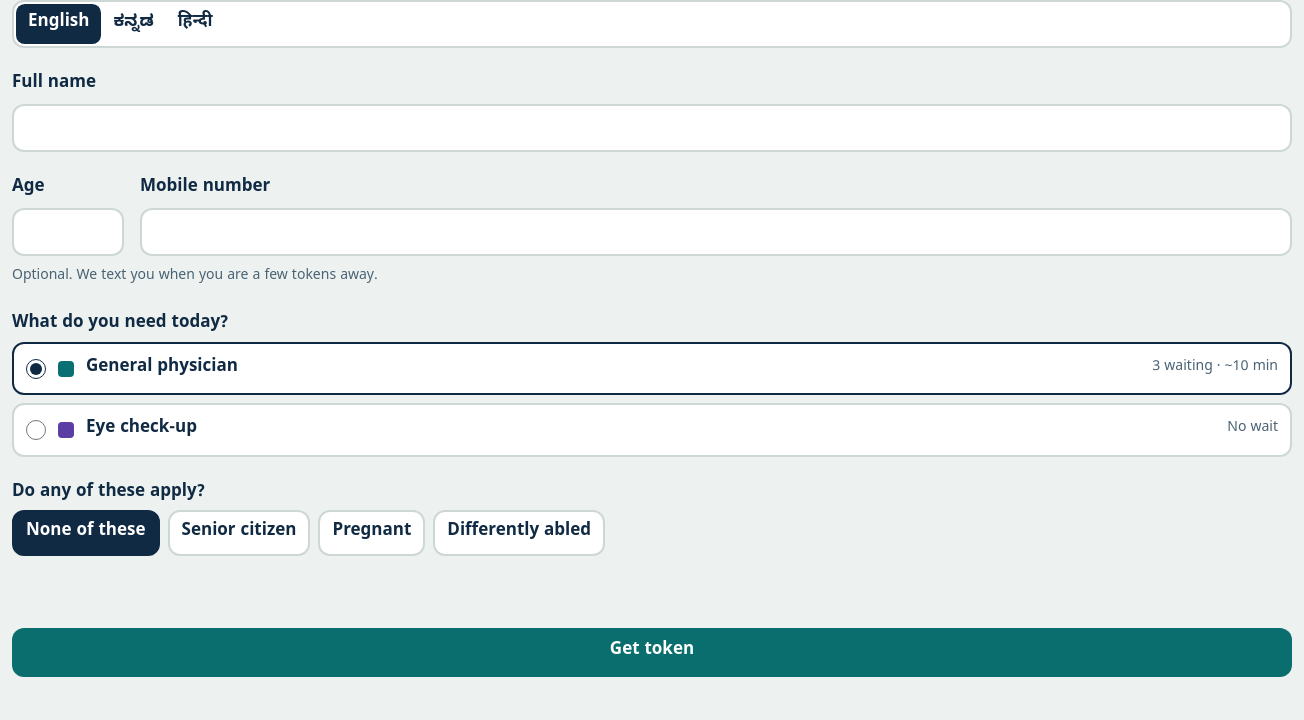
Test: RegisterForm › shows server errors in the form
Type "A" into the field named "name" at (652, 128), box x1=12 y1=104 x2=1292 y2=152
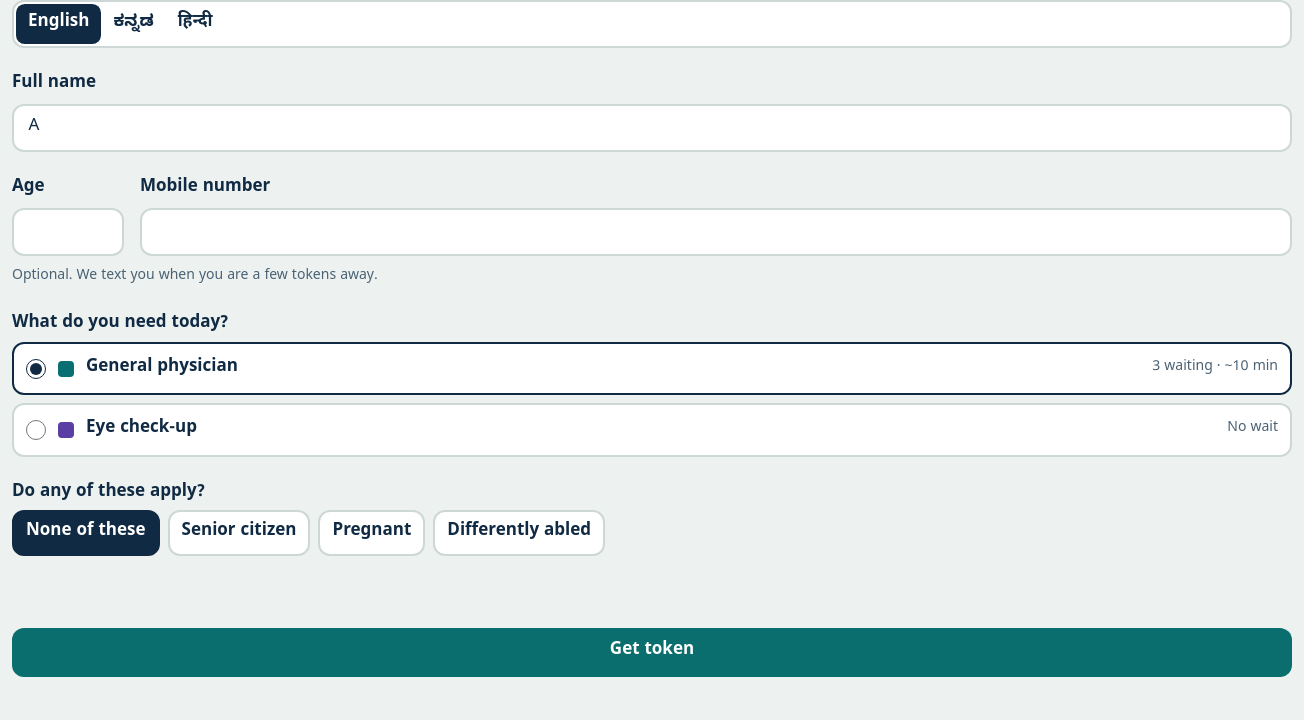
Type "30" into the field named "age" at (68, 232), box x1=12 y1=208 x2=124 y2=256
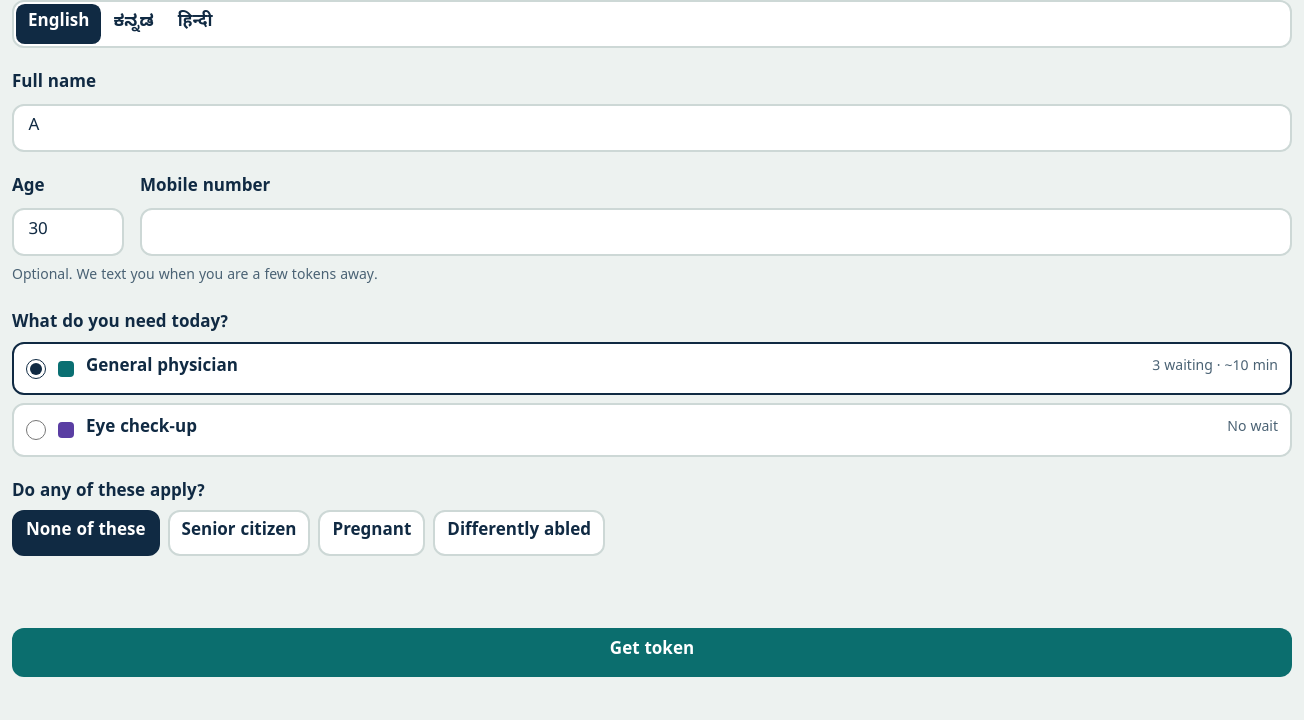
Click the button "Get token" at (652, 652), box x1=12 y1=628 x2=1292 y2=677
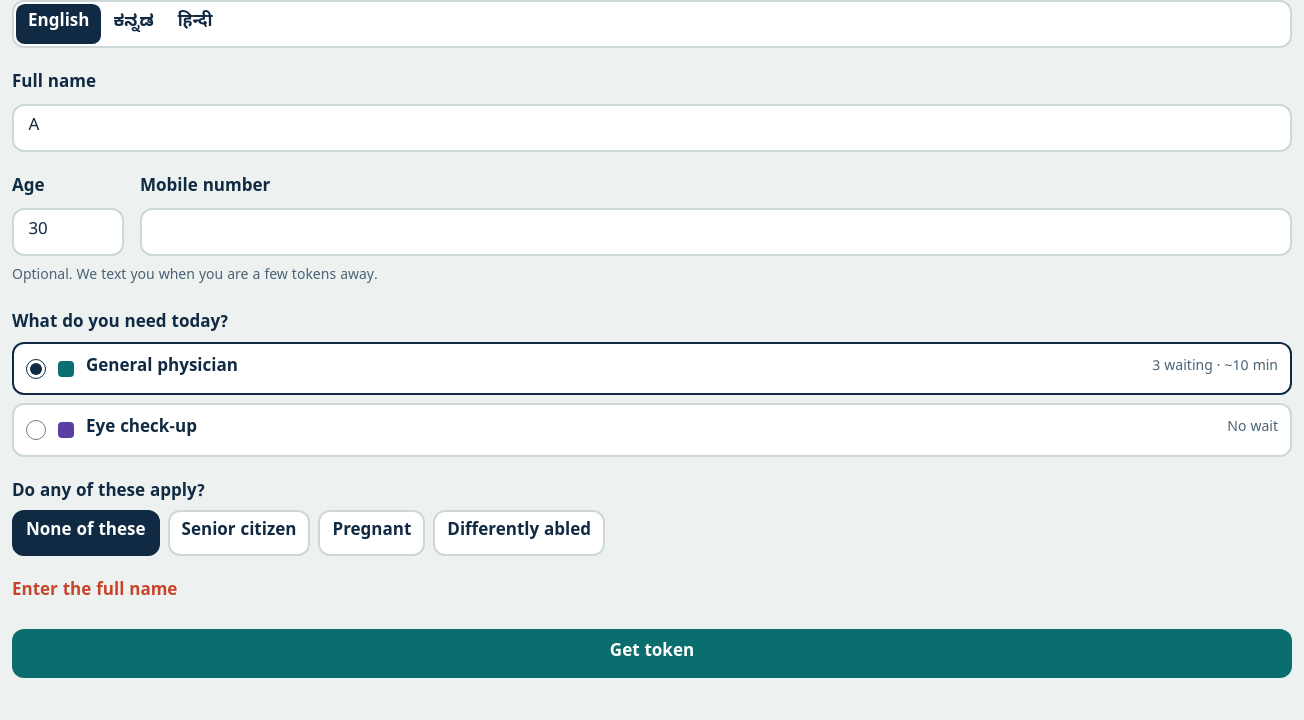
Expected: the text "Enter the full name" is shown, x1=12 y1=581 x2=177 y2=604
